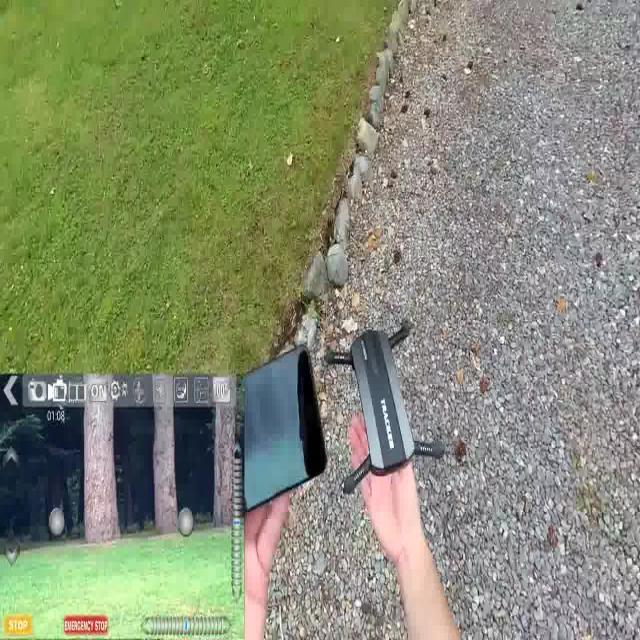drone: (323, 318, 449, 507)
